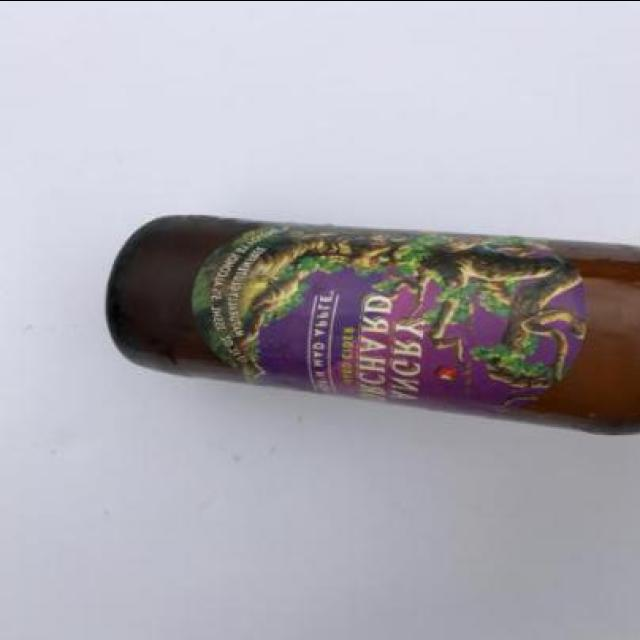kaca: (101, 212, 640, 434)
